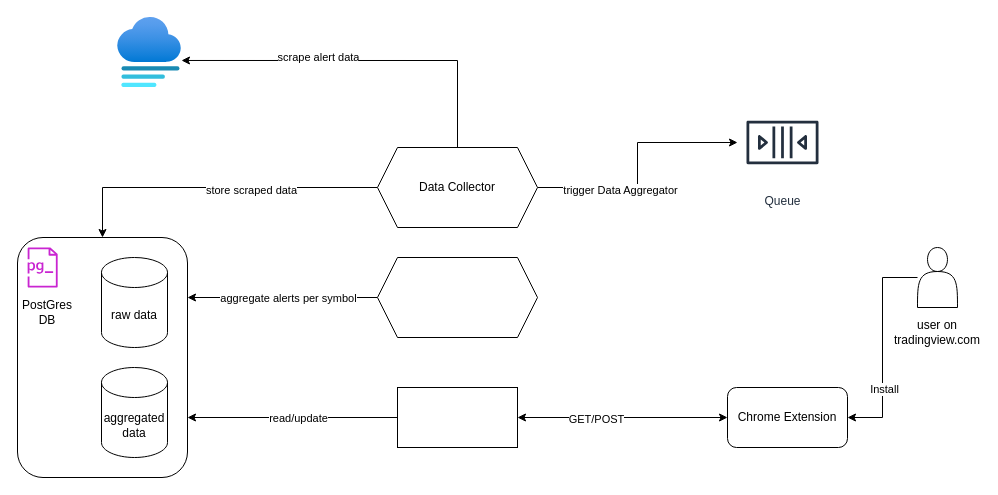
Some shapes in this 998 by 495 pixel diagram are drawn without their labels. Here are the shapes that lost their labels. From the top down, the centre of each, then its label:
(149,52): CoinAlert.me
(457,297): Data Aggregator
(457,417): api server
